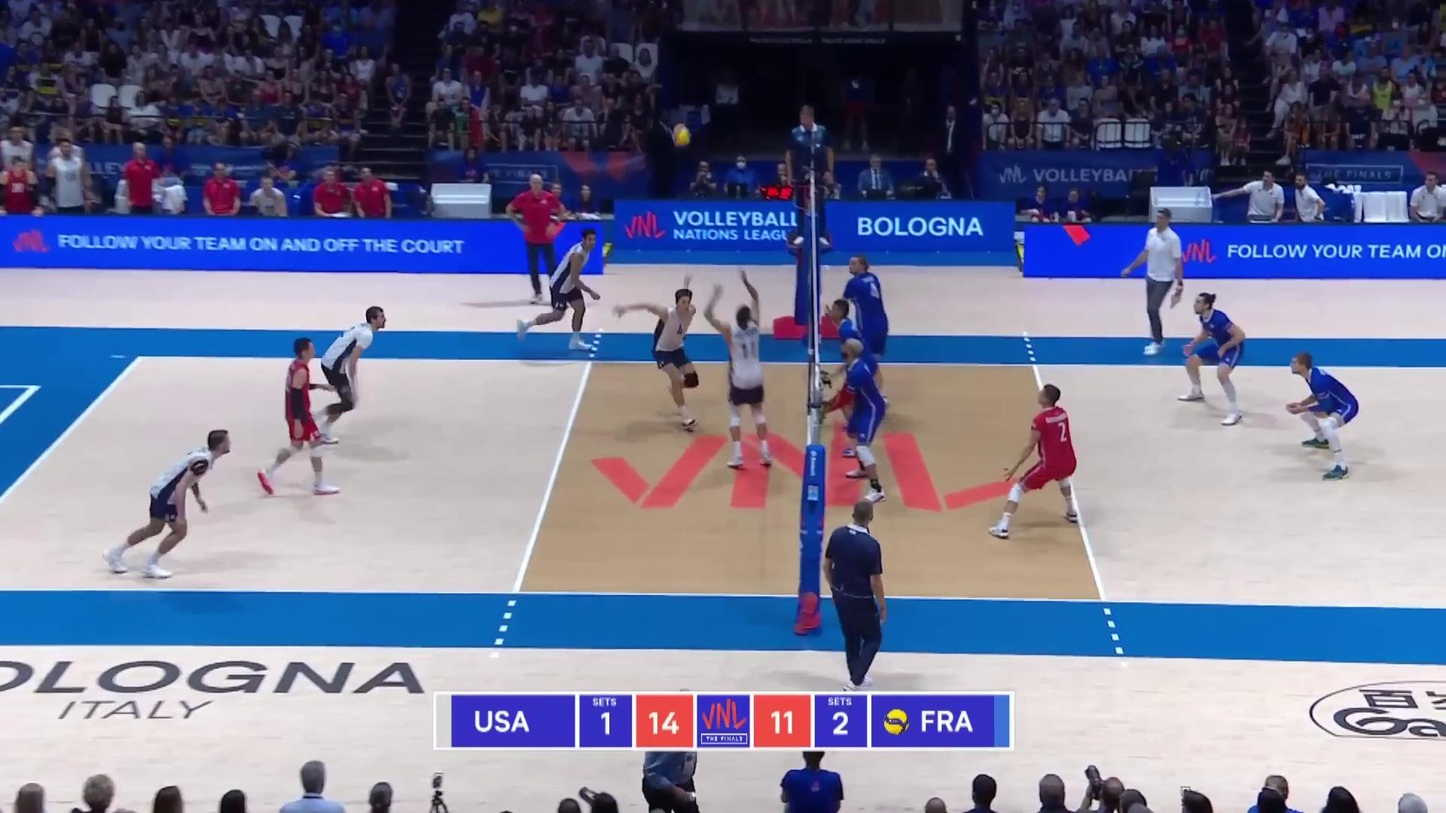player: (111, 429, 226, 575), (993, 386, 1086, 533), (714, 284, 782, 475), (261, 335, 341, 495), (618, 289, 701, 435), (524, 228, 613, 353), (825, 337, 890, 502), (315, 307, 385, 451), (1286, 355, 1358, 480), (821, 303, 876, 463), (1182, 294, 1244, 425), (830, 256, 898, 369)
refree: (818, 503, 887, 689), (787, 108, 835, 249)
